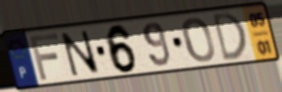6: (104, 22, 140, 75)
9: (140, 21, 172, 69)
D: (211, 10, 249, 65)
F: (28, 31, 61, 82)
N: (59, 29, 103, 78)
O: (181, 16, 217, 65)
